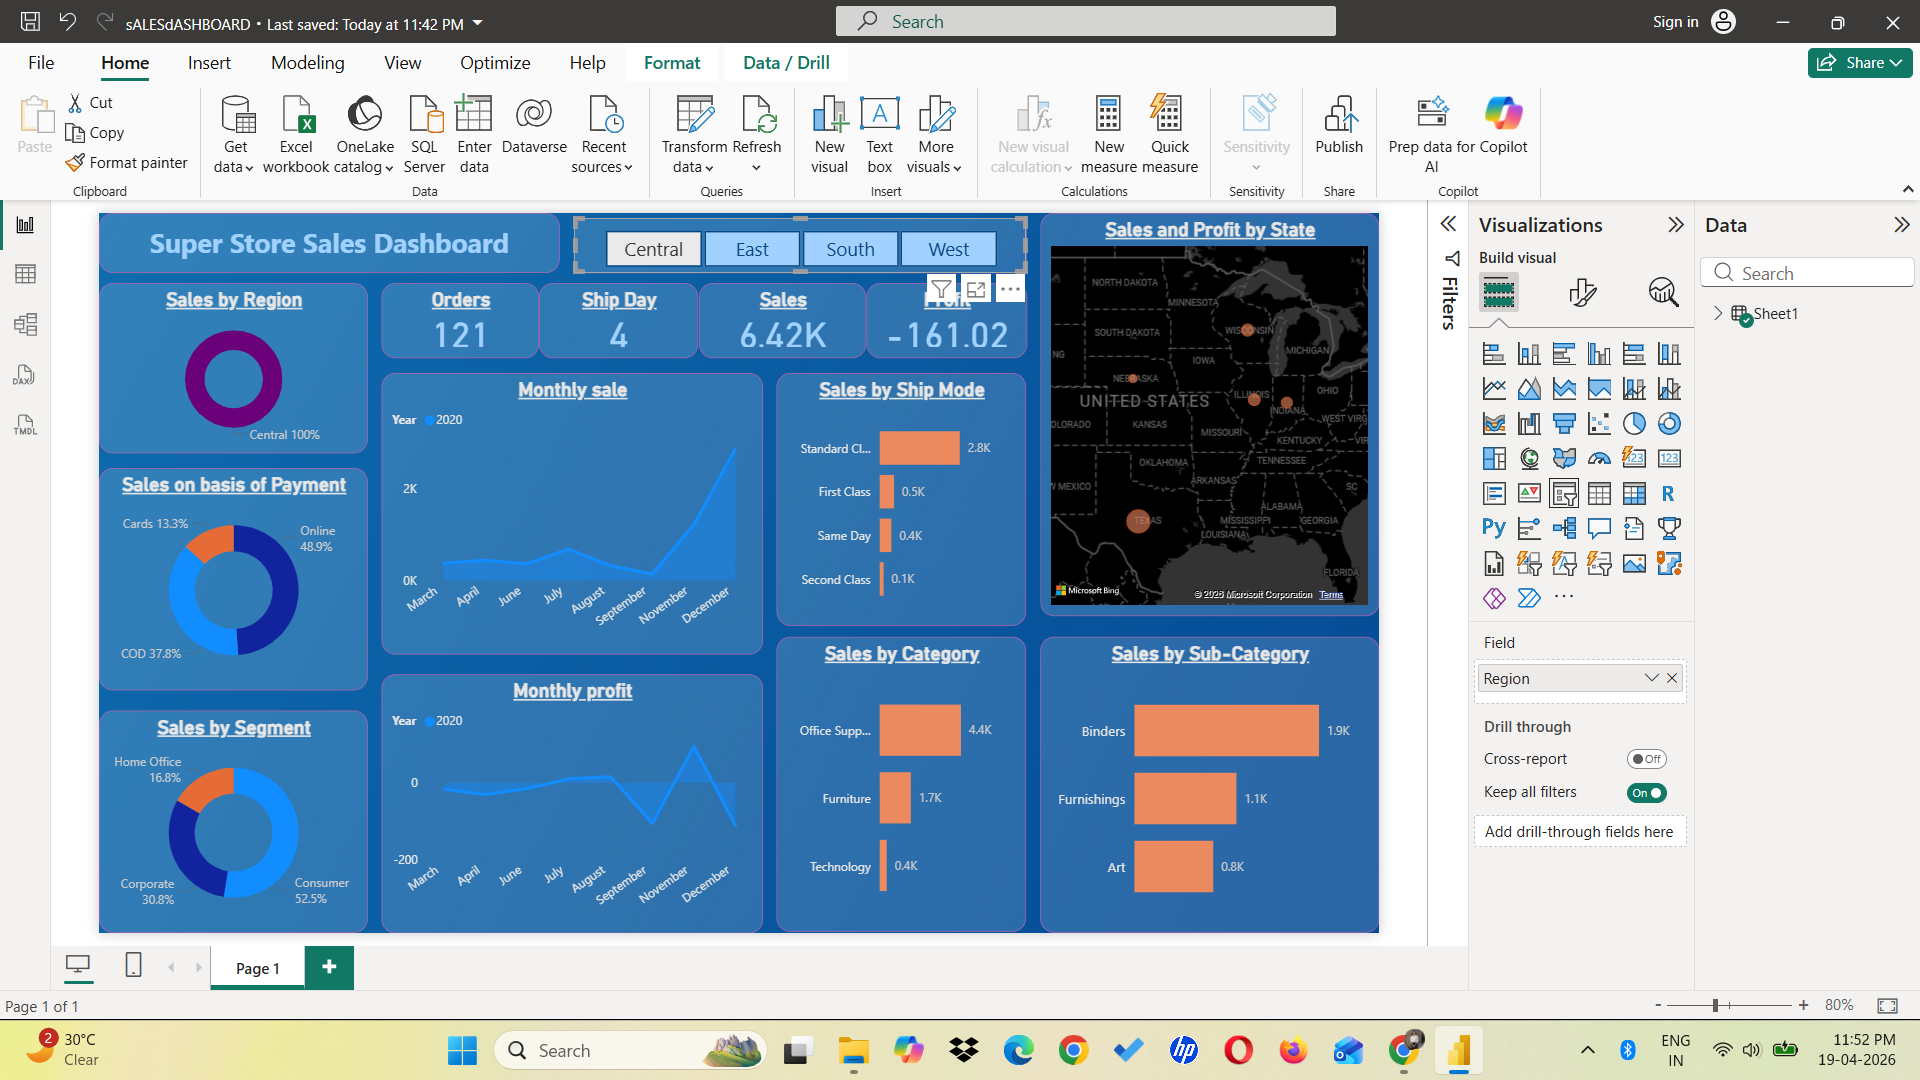

What the dashboard file says about the page in this screenshot:
{"tool":"powerbi","page":{"name":"Page 1","canvas":[1280,720],"ordinal":0},"visuals":[{"type":"clusteredBarChart","title":"Sales by Category","fields":{"Category":["Sheet1.Category"],"Y":["Sum(Sheet1.Sales)"]},"box":[677.9,424,249.7,295],"z":0},{"type":"clusteredBarChart","title":"Sales by Sub-Category","fields":{"Category":["Sheet1.Sub-Category"],"Y":["Sum(Sheet1.Sales)"]},"box":[941.3,424,338.9,296.4],"z":1000},{"type":"clusteredBarChart","title":"Sales by Ship Mode","fields":{"Category":["Sheet1.Ship Mode"],"Y":["Sum(Sheet1.Sales)"]},"box":[677.9,160.5,249.7,252.5],"z":2000},{"type":"stackedAreaChart","title":"Monthly profit","fields":{"Category":["Sheet1.Order Date.Variation.Date Hierarchy.Month","Sheet1.Order Date.Variation.Date Hierarchy.Day"],"Series":["Sheet1.Order Date.Variation.Date Hierarchy.Year"],"Y":["Sum(Sheet1.Profit)"]},"box":[282.7,461.1,381.5,259.3],"z":3000},{"type":"stackedAreaChart","title":"Monthly sale ","fields":{"Y":["Sum(Sheet1.Sales)"],"Category":["Sheet1.Order Date.Variation.Date Hierarchy.Month","Sheet1.Order Date.Variation.Date Hierarchy.Day"],"Series":["Sheet1.Order Date.Variation.Date Hierarchy.Year"]},"box":[282.7,160.5,381.5,281.3],"z":4000},{"type":"map","title":"Sales and Profit by State","fields":{"Category":["Sheet1.State"],"Size":["Sum(Sheet1.Sales)"]},"box":[941.3,0,338.9,403.4],"z":5000},{"type":"donutChart","title":"Sales by Segment","fields":{"Category":["Sheet1.Segment"],"Y":["Sum(Sheet1.Sales)"]},"box":[0,498.1,269,222.3],"z":6000},{"type":"donutChart","title":"Sales on basis of Payment","fields":{"Category":["Sheet1.Payment Mode"],"Y":["Sum(Sheet1.Sales)"]},"box":[0,255.2,269,222.3],"z":7000},{"type":"slicer","fields":{"Values":["Sheet1.Region"]},"box":[474.8,5.5,452.8,54.9],"z":8000},{"type":"textbox","box":[0,0,461.1,60.4],"z":9000},{"type":"card","title":"Sales","fields":{"Values":["Sum(Sheet1.Sales)"]},"box":[599.7,70,167.4,75.5],"z":10000},{"type":"card","title":"Profit","fields":{"Values":["Sum(Sheet1.Profit)"]},"box":[767.1,70,160.5,75.5],"z":11000},{"type":"card","title":"Ship Day","fields":{"Values":["Avg(Sheet1.AvgDelivery)"]},"box":[440.5,70,159.2,75.5],"z":12000},{"type":"card","title":"Orders","fields":{"Values":["Sum(Sheet1.Quantity)"]},"box":[282.7,70,157.8,75.5],"z":13000},{"type":"donutChart","title":"Sales by Region","fields":{"Y":["Sum(Sheet1.Sales)"],"Category":["Sheet1.Region"]},"box":[0,70,269,170.2],"z":13001}]}

Visuals, with their boxes on the page's 1280x720 design canvas (x1, y1, x2, y2). These are canvas units, not pixel positions in the 1920x1080 screenshot, which may show the page scaled, cropped or inside an application window:
"Sales by Category" clusteredBarChart: 678,424,928,719
"Sales by Sub-Category" clusteredBarChart: 941,424,1280,720
"Sales by Ship Mode" clusteredBarChart: 678,160,928,413
"Monthly profit" stackedAreaChart: 283,461,664,720
"Monthly sale " stackedAreaChart: 283,160,664,442
"Sales and Profit by State" map: 941,0,1280,403
"Sales by Segment" donutChart: 0,498,269,720
"Sales on basis of Payment" donutChart: 0,255,269,478
slicer - Sheet1.Region: 475,6,928,60
textbox: 0,0,461,60
"Sales" card: 600,70,767,146
"Profit" card: 767,70,928,146
"Ship Day" card: 440,70,600,146
"Orders" card: 283,70,440,146
"Sales by Region" donutChart: 0,70,269,240
